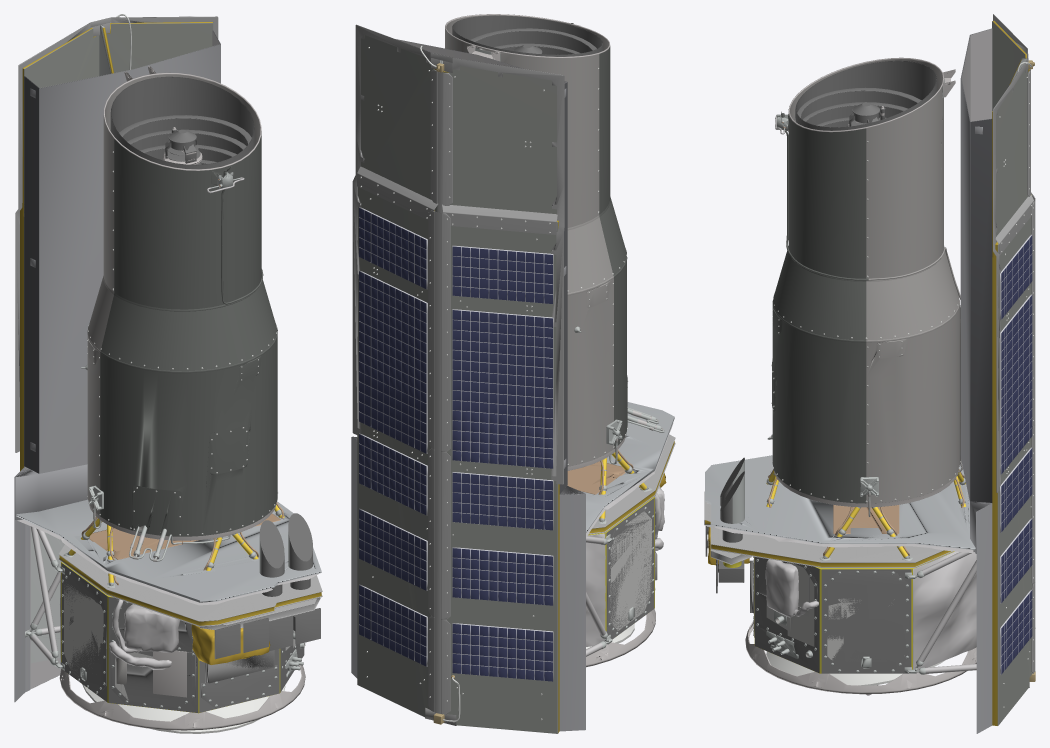
The model's file is spitzer.glb.
3 views of the same model, side by side, from view 1: azimuth 30°, elevation 25°; view 2: azimuth 150°, elevation 25°; view 3: azimuth 270°, elevation 25° (orthographic). The views are drawn at different scales.
Visible parts, largest first — view 1: Fake; view 2: Fake; view 3: Fake.
Part boxes in pixels (<box>): Fake: <box>14,14,322,733</box>; Fake: <box>351,14,675,733</box>; Fake: <box>704,14,1035,733</box>.
Bounding box in the file's own units: 1.62 × 4.49 × 2.11.
1 material, 1 textured.
